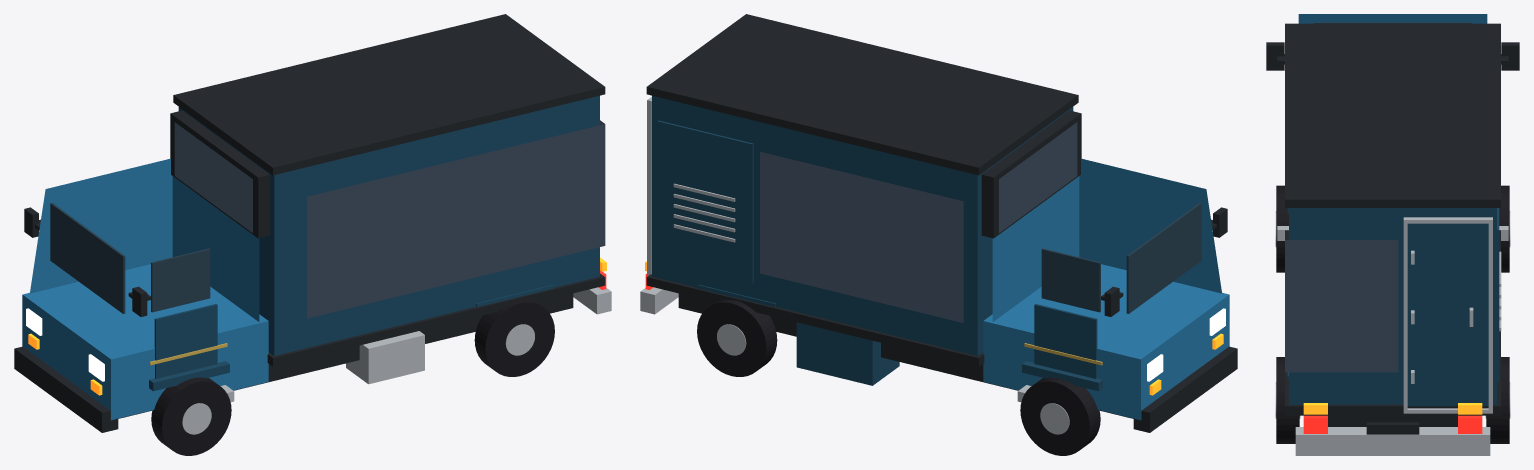
Rendered from Xinyu_2.1t_LED_Mobile_Ad_Truck_V2.glb.
The picture shows the model from 3 angles, left to right: view 1: azimuth 30°, elevation 25°; view 2: azimuth 150°, elevation 25°; view 3: azimuth 270°, elevation 25°; orthographic projection. The views are drawn at different scales.
Parts seen in each view (by area): view 1: LED_LEFT_MAIN, CARGO_ROOF_CAP, CARGO_BODY, CAB_LOWER_BODY, CAB_UPPER_SHELL, CAB_FRONT_WINDSHIELD, LED_FRONT_HEADER, WHEEL_FRONT_LEFT, WHEEL_REAR_LEFT, CAB_LEFT_DOOR_PANEL, CARGO_LOWER_RAIL, FRONT_HEADER_STRUCTURE (+8 smaller); view 2: CARGO_ROOF_CAP, LED_RIGHT_MAIN, CARGO_BODY, CAB_LOWER_BODY, CAB_UPPER_SHELL, RIGHT_REAR_SERVICE_PANEL, CAB_FRONT_WINDSHIELD, LED_FRONT_HEADER, WHEEL_FRONT_RIGHT, GENERATOR_BOX, WHEEL_REAR_RIGHT, CAB_RIGHT_DOOR_PANEL (+10 smaller); view 3: CARGO_ROOF_CAP, LED_LEFT_REAR, REAR_RIGHT_ACCESS_DOOR, CARGO_BODY, REAR_BUMPER, CARGO_LOWER_RAIL, CAB_UPPER_SHELL, CHASSIS_MAIN, WHEEL_REAR_LEFT, WHEEL_REAR_RIGHT, REAR_DOOR_FRAME_RIGHT, REAR_DOOR_FRAME_LEFT (+13 smaller).
Boxes of the visible parts, x1,y1,x2,y2 form: LED_LEFT_MAIN: [307, 124, 605, 318]; CARGO_ROOF_CAP: [173, 14, 605, 175]; CARGO_BODY: [178, 95, 599, 355]; CAB_LOWER_BODY: [22, 264, 268, 420]; CAB_UPPER_SHELL: [30, 158, 259, 321]; CAB_FRONT_WINDSHIELD: [50, 203, 125, 313]; LED_FRONT_HEADER: [174, 122, 252, 232]; WHEEL_FRONT_LEFT: [151, 377, 231, 455]; WHEEL_REAR_LEFT: [474, 299, 554, 376]; CAB_LEFT_DOOR_PANEL: [154, 304, 217, 378]; CARGO_LOWER_RAIL: [267, 273, 605, 366]; FRONT_HEADER_STRUCTURE: [170, 110, 270, 238]; CARGO_ROOF_CAP: [646, 14, 1078, 175]; LED_RIGHT_MAIN: [760, 151, 963, 322]; CARGO_BODY: [652, 95, 1073, 355]; CAB_LOWER_BODY: [983, 264, 1229, 420]; CAB_UPPER_SHELL: [992, 158, 1221, 321]; RIGHT_REAR_SERVICE_PANEL: [657, 120, 753, 283]; CAB_FRONT_WINDSHIELD: [1126, 203, 1201, 313]; LED_FRONT_HEADER: [999, 122, 1077, 232]; WHEEL_FRONT_RIGHT: [1020, 377, 1100, 455]; GENERATOR_BOX: [796, 322, 899, 385]; WHEEL_REAR_RIGHT: [697, 299, 777, 376]; CAB_RIGHT_DOOR_PANEL: [1034, 304, 1097, 378]; CARGO_ROOF_CAP: [1285, 23, 1500, 207]; LED_LEFT_REAR: [1285, 240, 1398, 372]; REAR_RIGHT_ACCESS_DOOR: [1407, 223, 1488, 406]; CARGO_BODY: [1289, 208, 1496, 404]; REAR_BUMPER: [1295, 427, 1490, 455]; CARGO_LOWER_RAIL: [1285, 230, 1500, 415]; CAB_UPPER_SHELL: [1298, 14, 1487, 23]; CHASSIS_MAIN: [1328, 415, 1457, 426]; WHEEL_REAR_LEFT: [1276, 357, 1299, 443]; WHEEL_REAR_RIGHT: [1486, 357, 1509, 443]; REAR_DOOR_FRAME_RIGHT: [1488, 217, 1492, 413]; REAR_DOOR_FRAME_LEFT: [1403, 217, 1407, 412].
Bounding box in the file's own units: 6.29 × 3.13 × 2.5.
